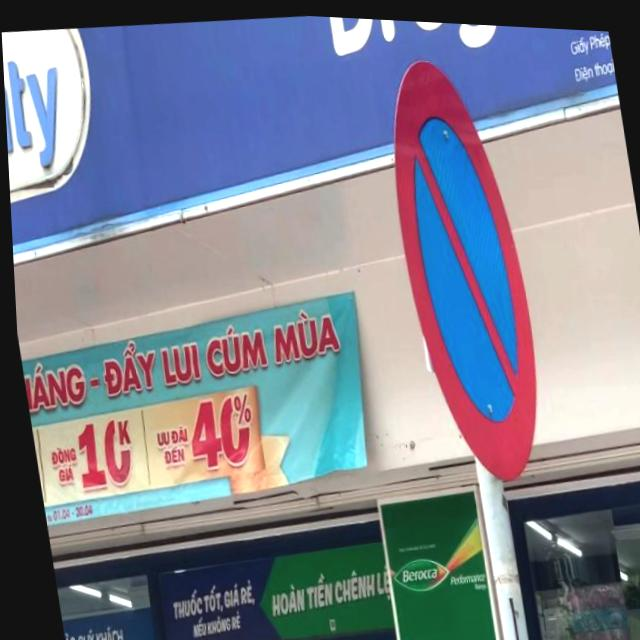Cam do xe: (372, 44, 552, 489)
